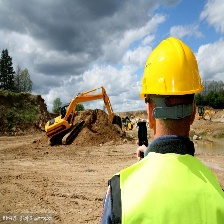helmet: (139, 37, 207, 97)
person: (93, 35, 224, 224)
vest: (105, 148, 223, 224)
